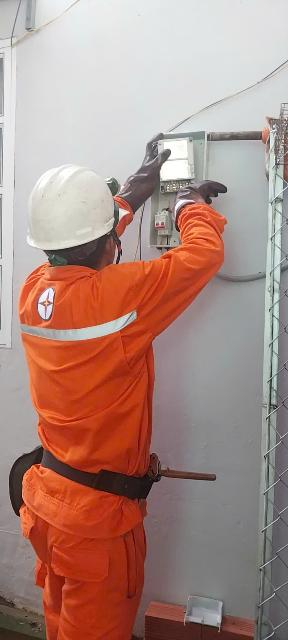gloves: (110, 132, 172, 207), (154, 168, 224, 217)
harness: (21, 422, 148, 503)
helmet: (10, 131, 147, 275)
